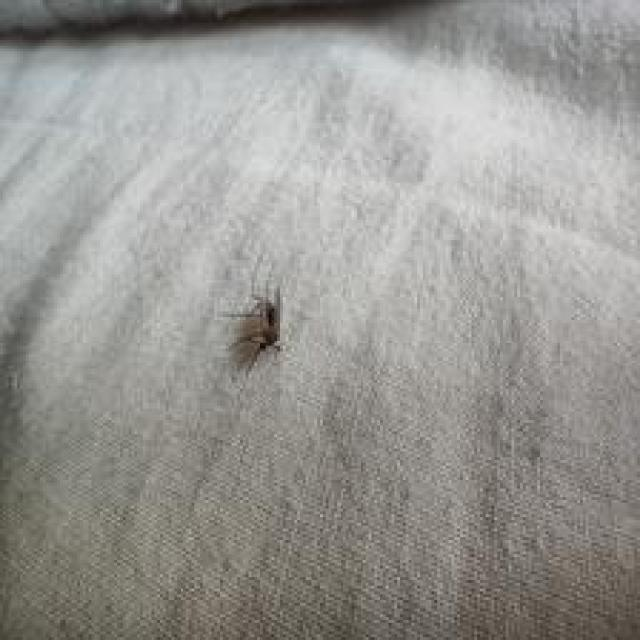Culex: (220, 283, 286, 374)
